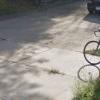Bicycle: (81, 25, 100, 72)
